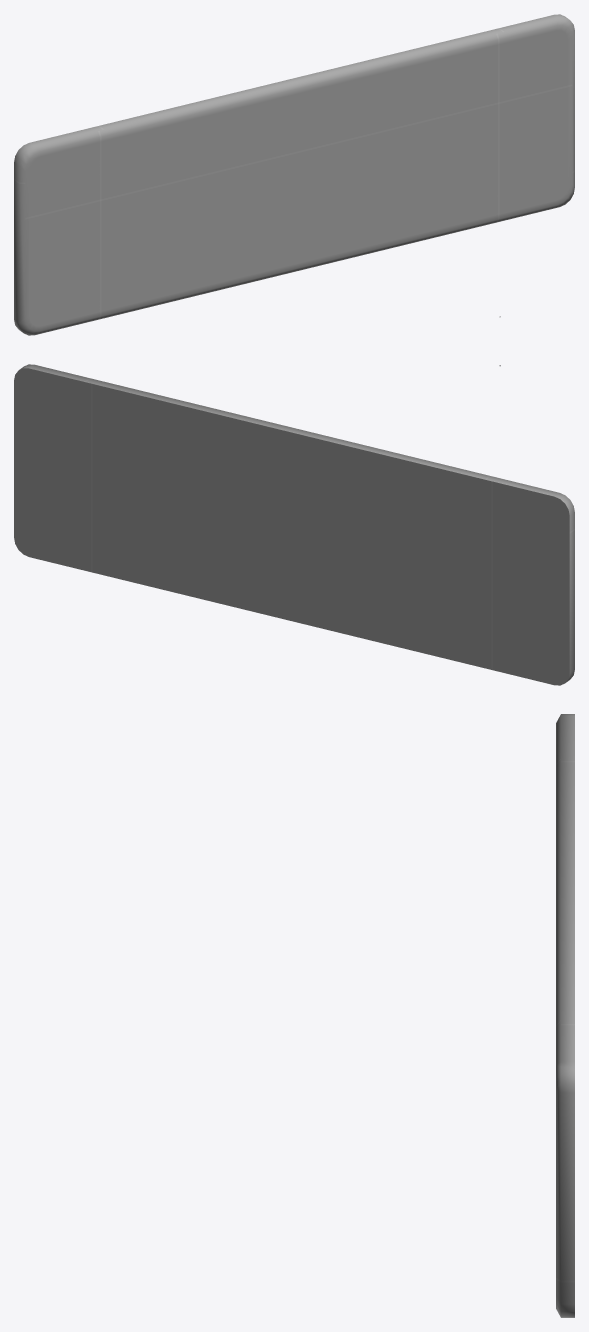
File: MeshTelevisionStand_22_1_GeomSubset_1.obj
3 renders of one model, top to bottom at view 1: azimuth 30°, elevation 25°; view 2: azimuth 150°, elevation 25°; view 3: azimuth 270°, elevation 25°, orthographic. The views are drawn at different scales.
Visible parts, largest first — view 1: MeshTelevisionStand_22_1_GeomSubset_1; view 2: MeshTelevisionStand_22_1_GeomSubset_1; view 3: MeshTelevisionStand_22_1_GeomSubset_1.
Part boxes in pixels (x1,y1,x2,y2): MeshTelevisionStand_22_1_GeomSubset_1: [14, 14, 574, 335]; MeshTelevisionStand_22_1_GeomSubset_1: [14, 364, 574, 685]; MeshTelevisionStand_22_1_GeomSubset_1: [556, 714, 574, 1317].
Bounding box in the file's own units: 0.7109 × 0.2306 × 0.4615.
